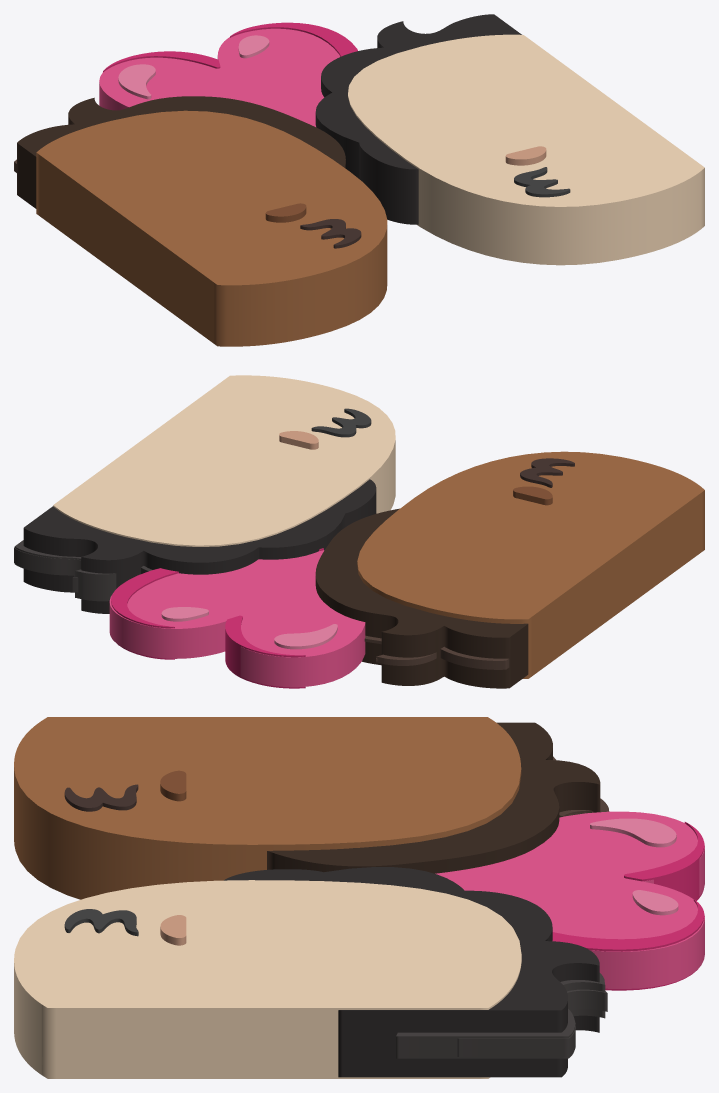
Rendered from emoji_u1f9d1_1f3fe_200d_2764_200d_1f48b_200d_1f9d1_1f3fb.glb.
The picture shows the model from 3 angles, top to bottom: view 1: azimuth 30°, elevation 25°; view 2: azimuth 150°, elevation 25°; view 3: azimuth 270°, elevation 25°; orthographic projection. The views are drawn at different scales.
Visible parts, largest first — view 1: emoji_u1f9d1_1f3fe_200d_2764_200d_1f48b_200d_1f9d1_1f3fb; view 2: emoji_u1f9d1_1f3fe_200d_2764_200d_1f48b_200d_1f9d1_1f3fb; view 3: emoji_u1f9d1_1f3fe_200d_2764_200d_1f48b_200d_1f9d1_1f3fb.
Part boxes in pixels (x1,y1,x2,y2): emoji_u1f9d1_1f3fe_200d_2764_200d_1f48b_200d_1f9d1_1f3fb: (14,14,704,346); emoji_u1f9d1_1f3fe_200d_2764_200d_1f48b_200d_1f9d1_1f3fb: (14,375,704,688); emoji_u1f9d1_1f3fe_200d_2764_200d_1f48b_200d_1f9d1_1f3fb: (14,717,704,1078).
Size of the model in its own units: 0.0338 by 0.0048 by 0.0336.
